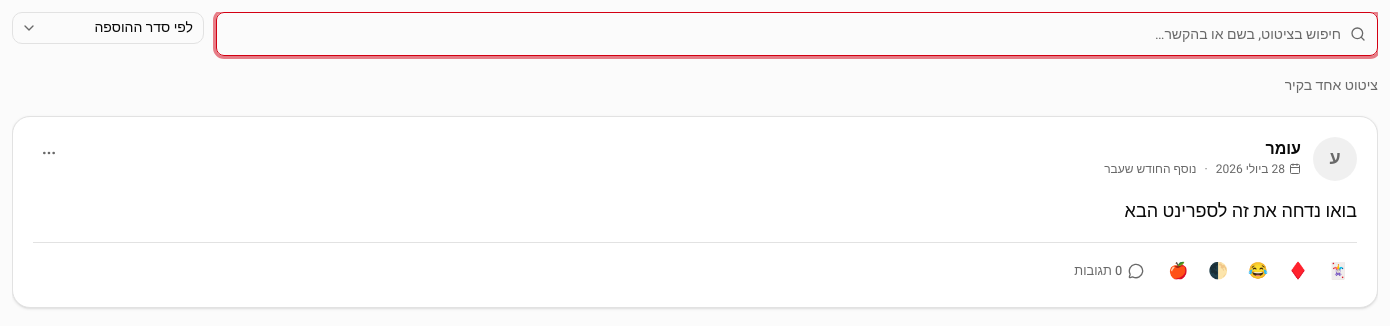
Test: QuoteSearch › summarises the result count in Hebrew, singular included
The image size is (1390, 326).
expect the text "בואו נדחה את זה לספרינט הבא" is shown: met, box 1125,198 -> 1357,225
Type "נדחה" into the field named "חיפוש ציטוטים".
click(797, 34); type("נדחה")  # box 216,12 -> 1378,56
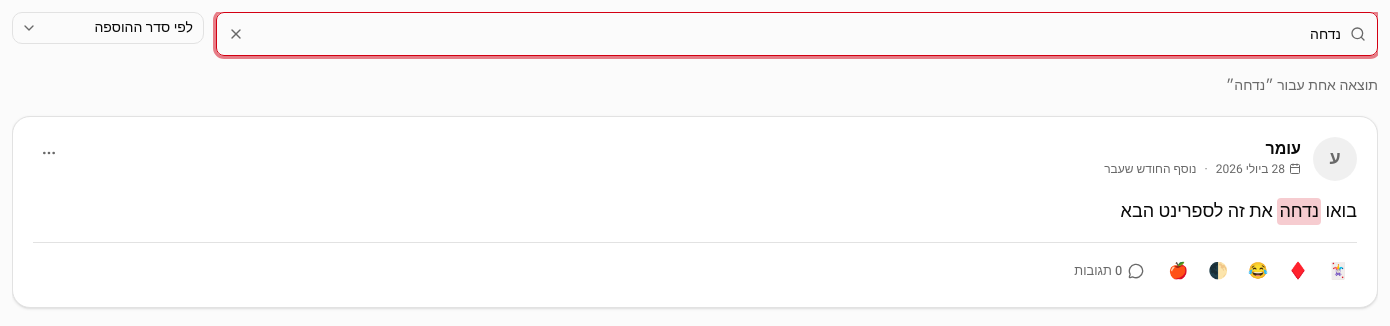
expect the text "תוצאה אחת עבור ״נדחה״" is shown: met, box 1226,75 -> 1378,96
